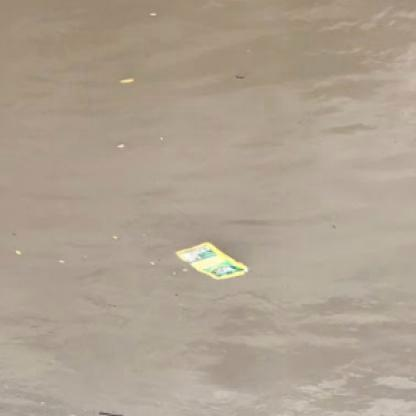Trash: (173, 236, 251, 282)
